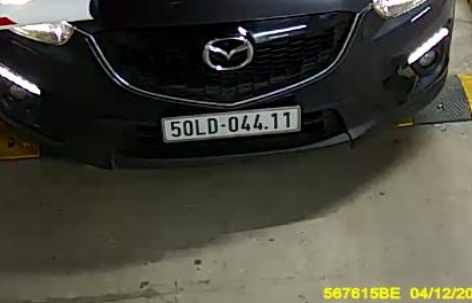plate: (155, 103, 307, 143)
